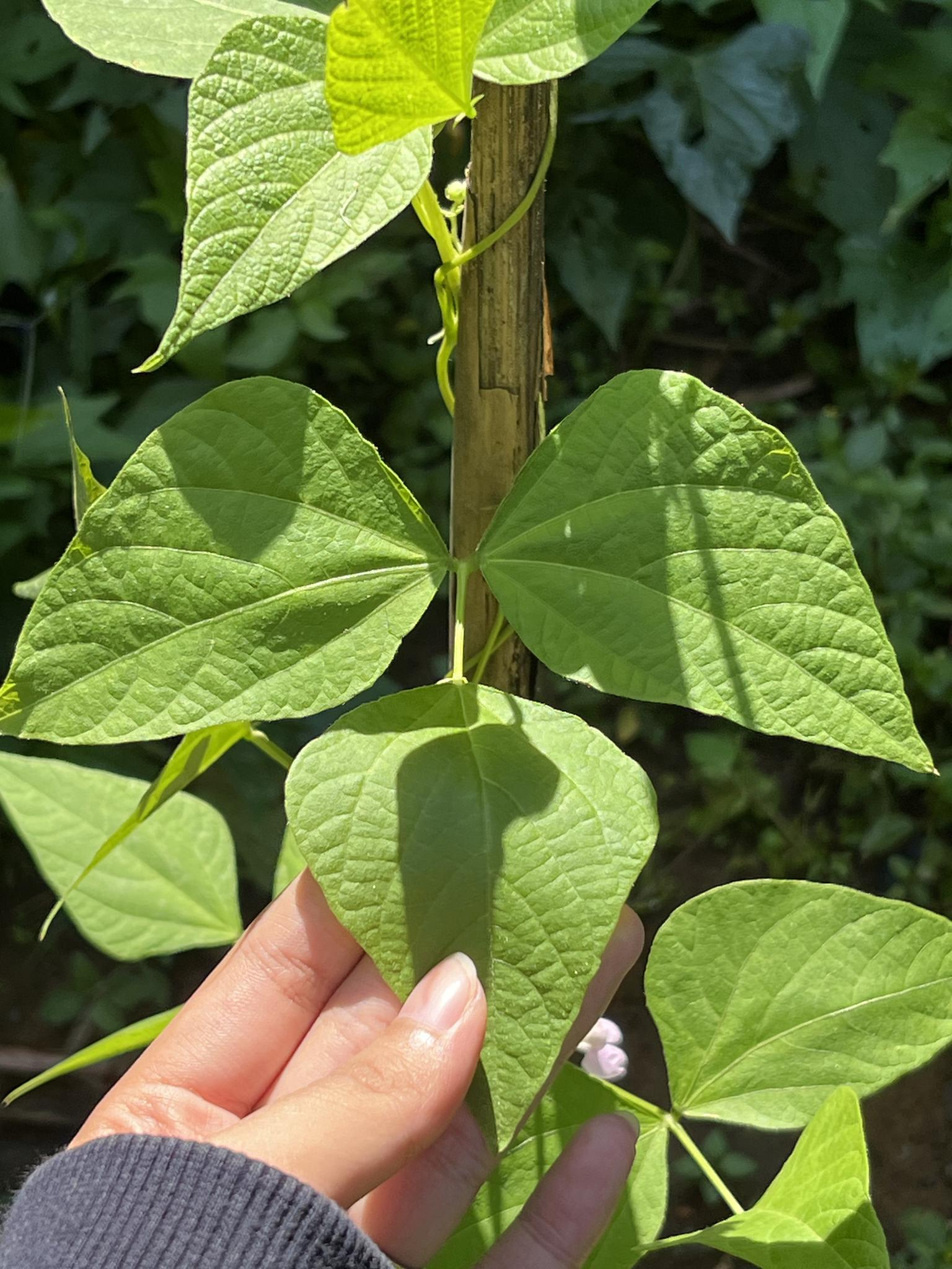sehat: (475, 354, 943, 776), (272, 681, 658, 1183)
